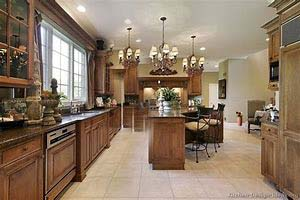copymove: (180, 35, 205, 74)
removal: (232, 62, 258, 92)
spliced: (234, 111, 244, 126)
